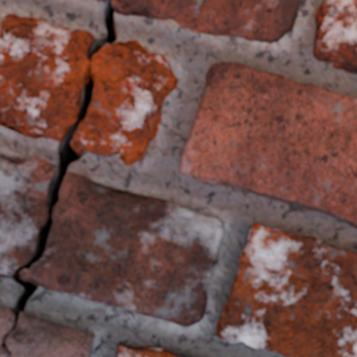brick: (181, 64, 356, 227), (217, 224, 356, 356), (313, 0, 356, 73), (118, 344, 177, 356)
broken_brick: (22, 172, 224, 327), (74, 39, 179, 166), (0, 13, 95, 141), (95, 0, 301, 43), (0, 153, 55, 278), (0, 313, 95, 356), (0, 305, 13, 340)
crack: (0, 2, 119, 354)
